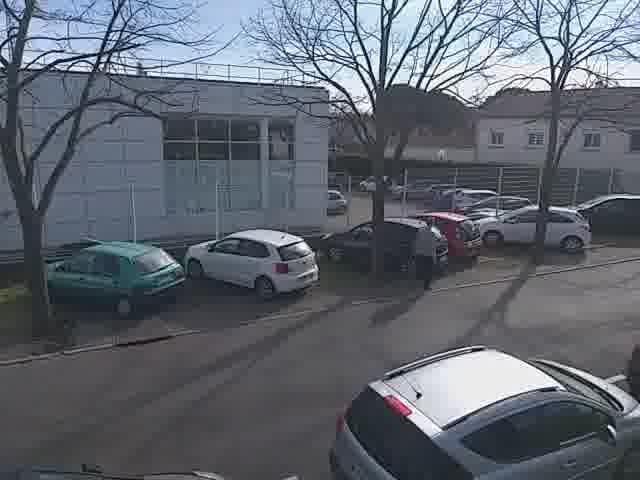persona: (407, 207, 445, 292)
